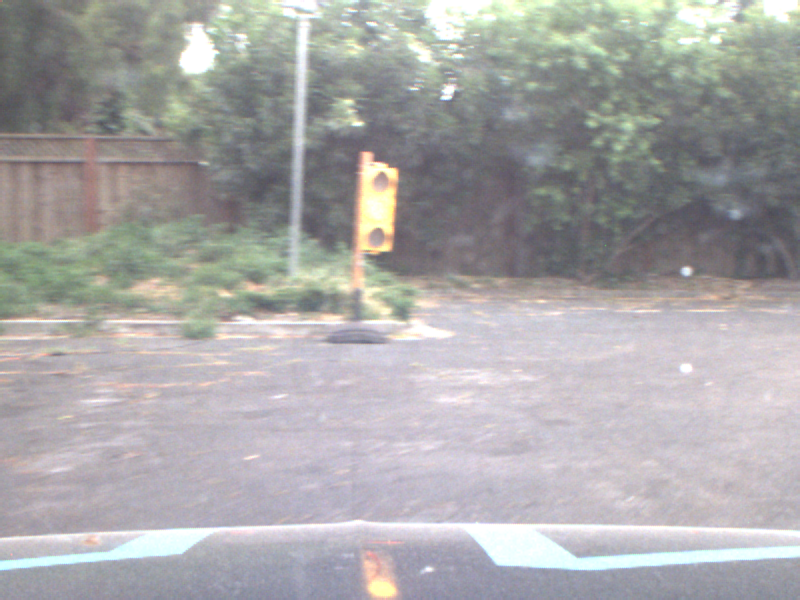Yellow: (358, 164, 393, 250)
